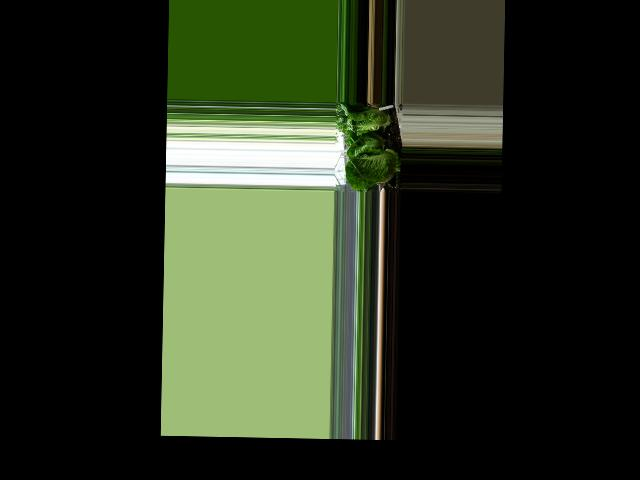lettuce: (340, 105, 397, 136)
